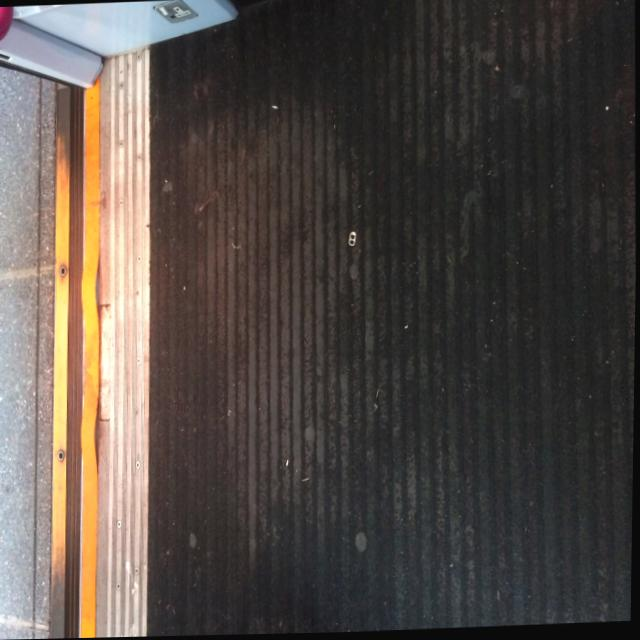Can-Metal: (347, 230, 359, 248)
